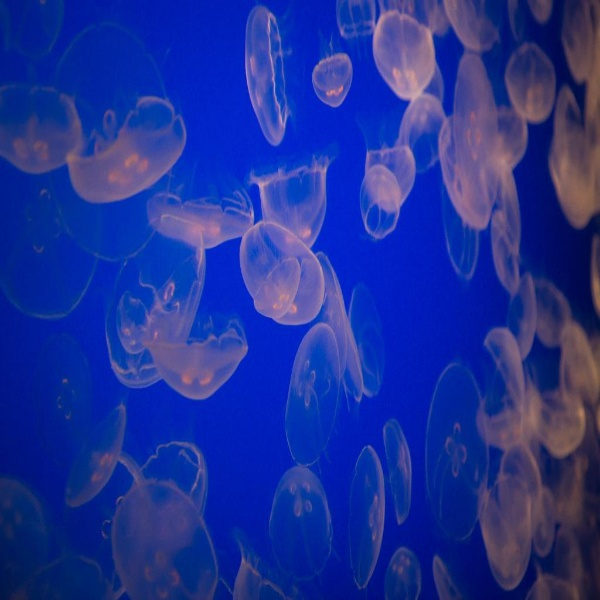Jellyfish: (0, 131, 363, 599), (361, 0, 599, 598), (64, 90, 187, 205), (242, 1, 303, 146), (0, 78, 83, 169), (312, 23, 352, 111)
